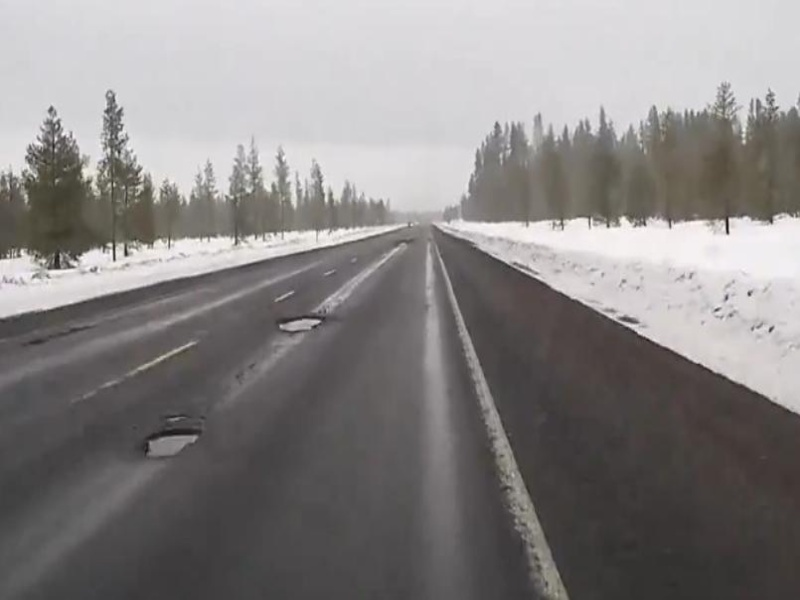pothole: (141, 427, 210, 460), (273, 314, 326, 338)
